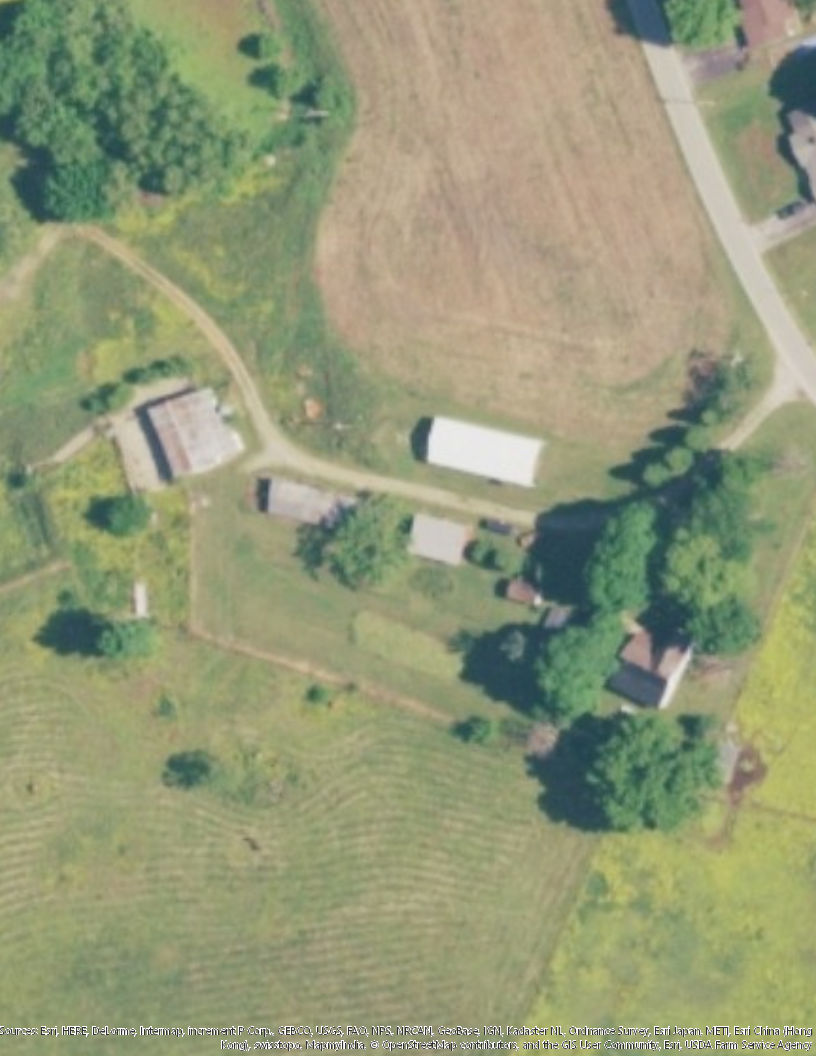cafo: (416, 408, 551, 494)
